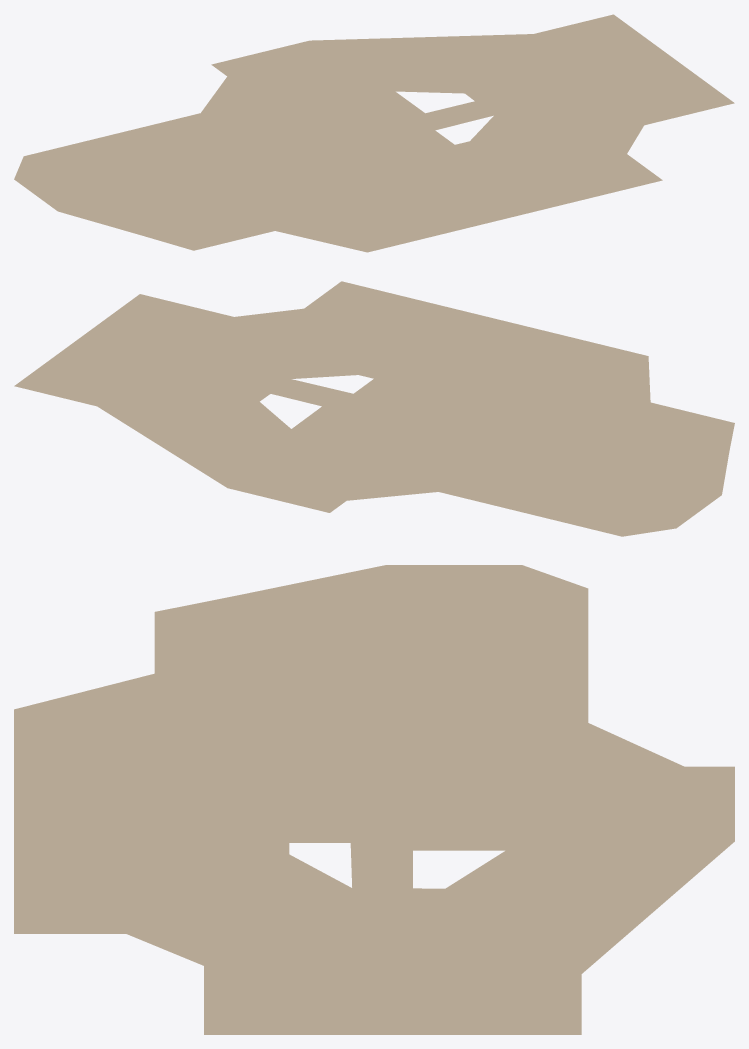
The model's file is Ground.fbx.
The picture shows the model from 3 angles, top to bottom: view 1: azimuth 30°, elevation 25°; view 2: azimuth 150°, elevation 25°; view 3: azimuth 270°, elevation 25°; orthographic projection. The views are drawn at different scales.
Parts seen in each view (by area): view 1: Ground; view 2: Ground; view 3: Ground.
Part boxes in pixels (left/top/right/bottom): Ground: left=14, top=14, right=734, bottom=252; Ground: left=14, top=281, right=734, bottom=536; Ground: left=14, top=565, right=734, bottom=1034.
Bounding box in the file's own units: 43134 × 0.00116 × 27968.
